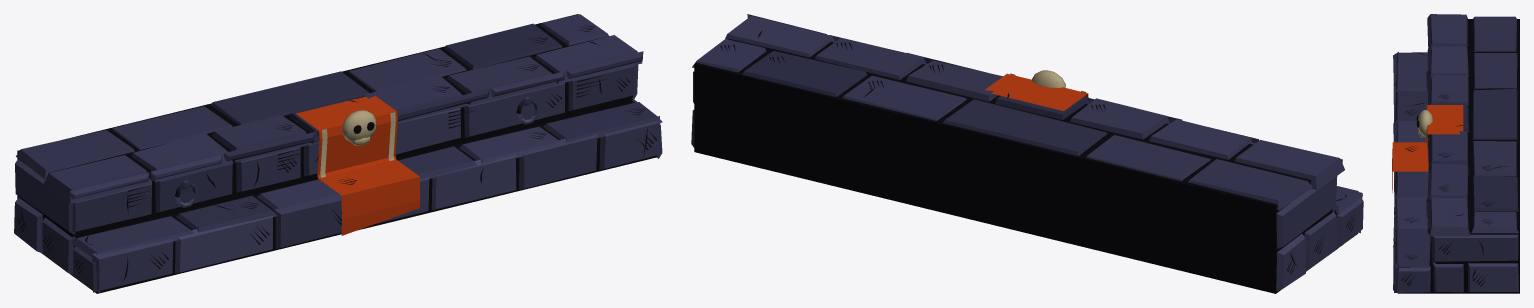
Rendered from ledge.glb.
The picture shows the model from 3 angles, left to right: view 1: azimuth 30°, elevation 25°; view 2: azimuth 150°, elevation 25°; view 3: azimuth 270°, elevation 25°; orthographic projection. The views are drawn at different scales.
Visible parts, largest first — view 1: ledge.001; view 2: ledge.001; view 3: ledge.001.
Boxes of the visible parts, x1,y1,x2,y2 form: ledge.001: [14, 14, 662, 293]; ledge.001: [691, 14, 1363, 293]; ledge.001: [1392, 14, 1519, 293].
Bounding box in the file's own units: 8.08 × 1.36 × 2.03.
